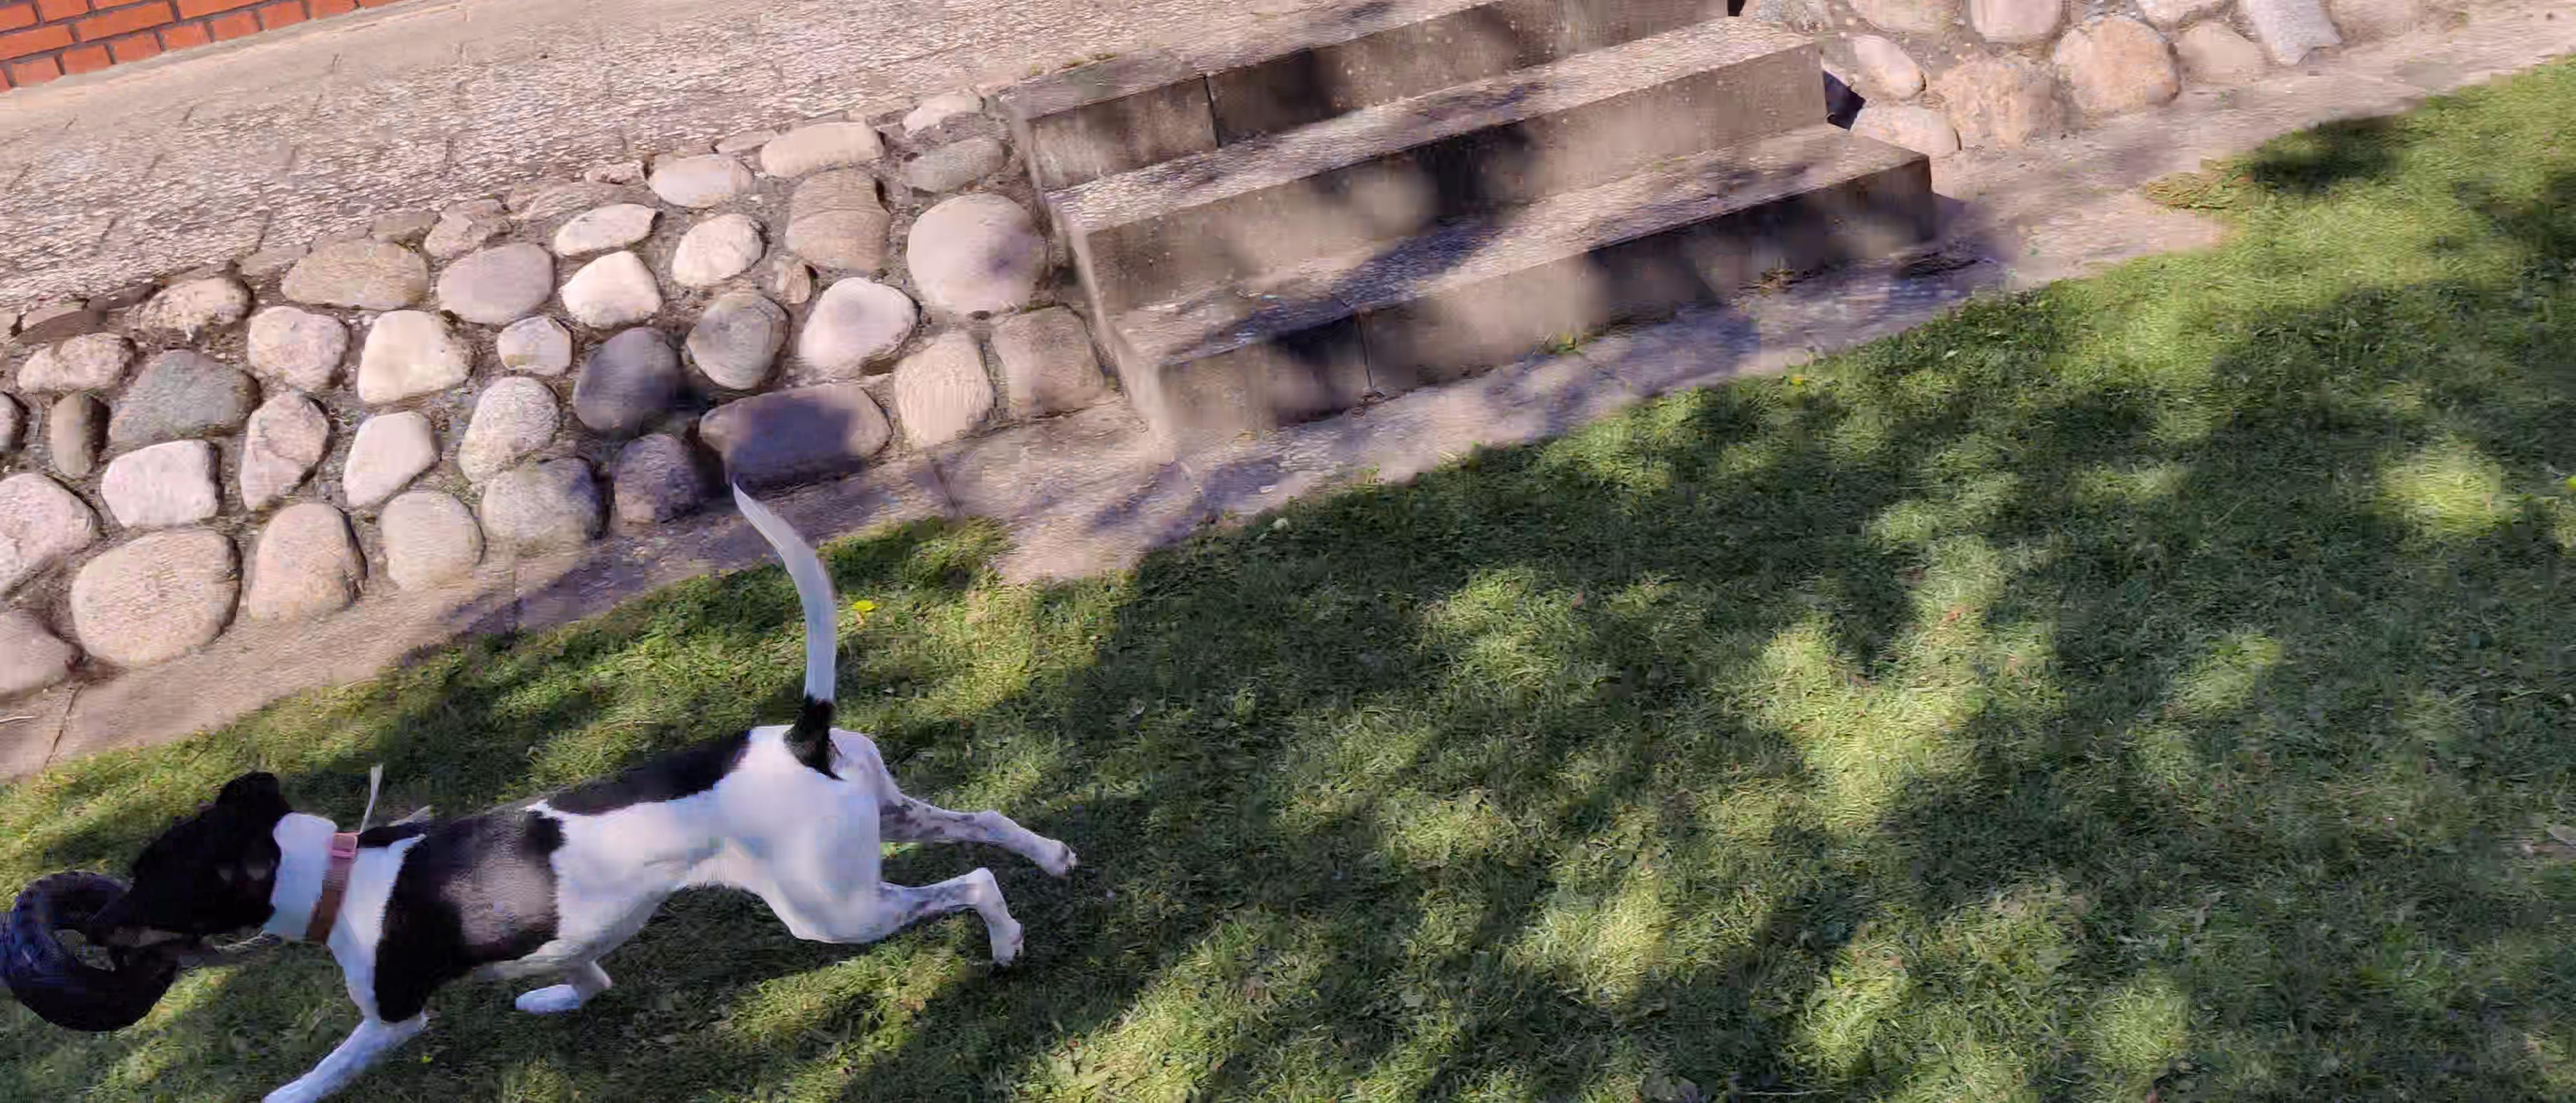Dog: (82, 449, 1088, 1103)
